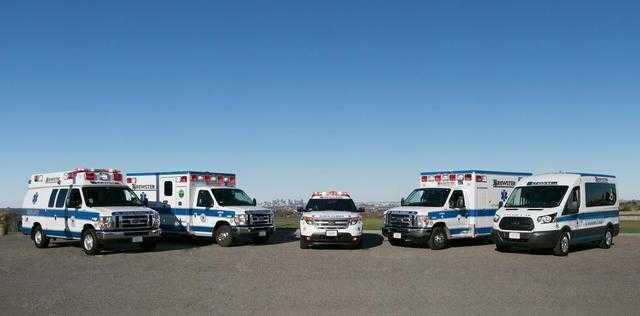car: (18, 166, 162, 255), (381, 169, 532, 249), (124, 170, 275, 246), (490, 170, 620, 255)
